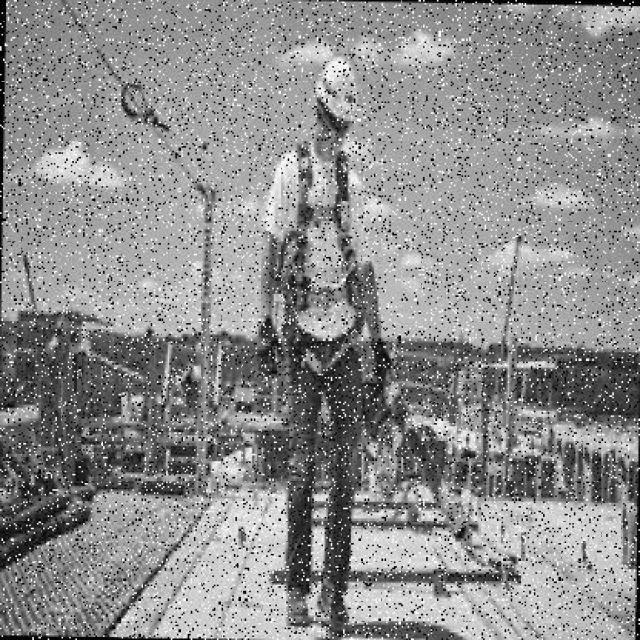Arnes_seguridad: (252, 145, 375, 407)
